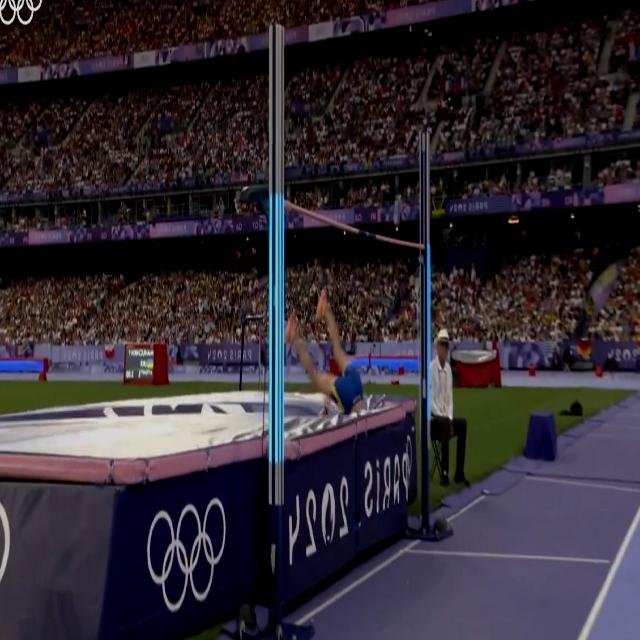land: (283, 287, 363, 417)
